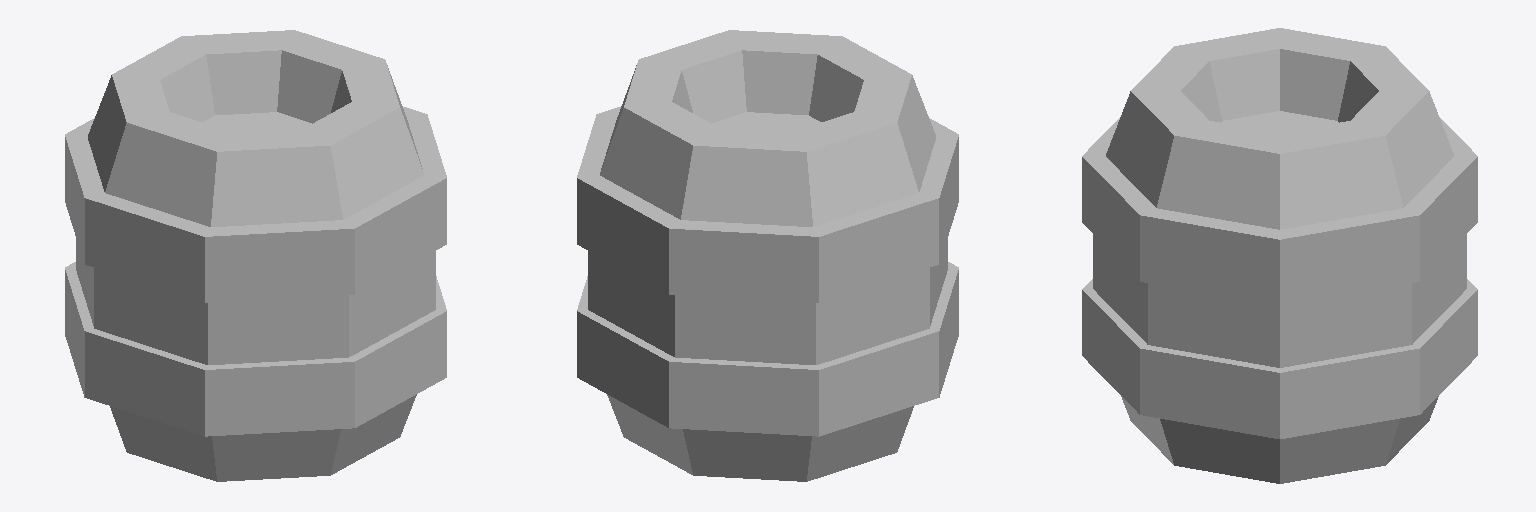
The model's file is barrel.obj.
3 views of the same model, side by side, from view 1: azimuth 30°, elevation 25°; view 2: azimuth 150°, elevation 25°; view 3: azimuth 270°, elevation 25° (orthographic).
Parts seen in each view (by area): view 1: barrel; view 2: barrel; view 3: barrel.
Boxes of the visible parts, <box> form: barrel: <box>65,30,446,481</box>; barrel: <box>577,30,958,481</box>; barrel: <box>1082,28,1477,483</box>.
Bounding box in the file's own units: 0.5176 × 0.4762 × 0.5176.